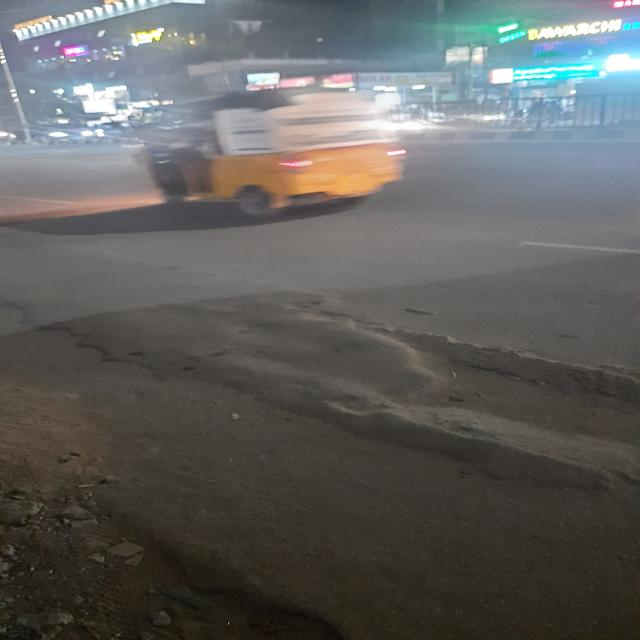Autorickshaw: (112, 78, 439, 212)
Car: (34, 116, 102, 147)
